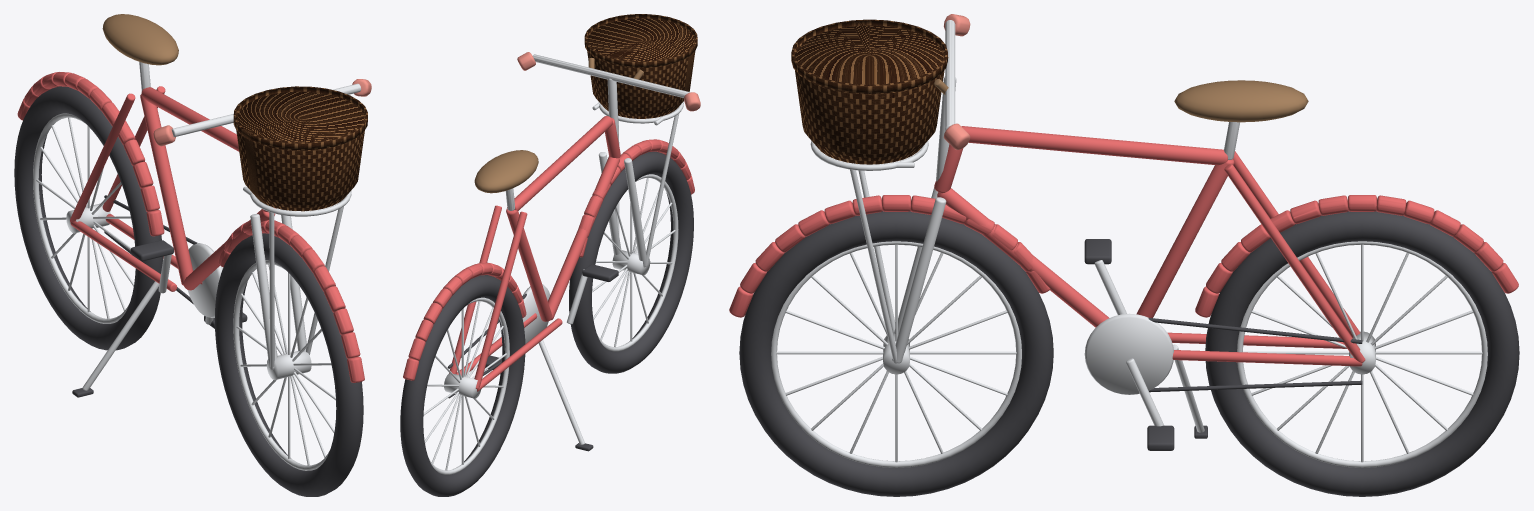
File: bike_red.glb
The picture shows the model from 3 angles, left to right: view 1: azimuth 30°, elevation 25°; view 2: azimuth 150°, elevation 25°; view 3: azimuth 270°, elevation 25°; orthographic projection. The views are drawn at different scales.
Visible parts, largest first — view 1: bike_red; view 2: bike_red; view 3: bike_red.
Boxes of the visible parts, bbox=[...] form: bike_red: bbox=[14, 14, 371, 496]; bike_red: bbox=[400, 14, 700, 496]; bike_red: bbox=[729, 14, 1519, 496].
Size of the model in its own units: 0.6495 by 1.09 by 1.76.
Materials: 6 (1 with a texture image).
